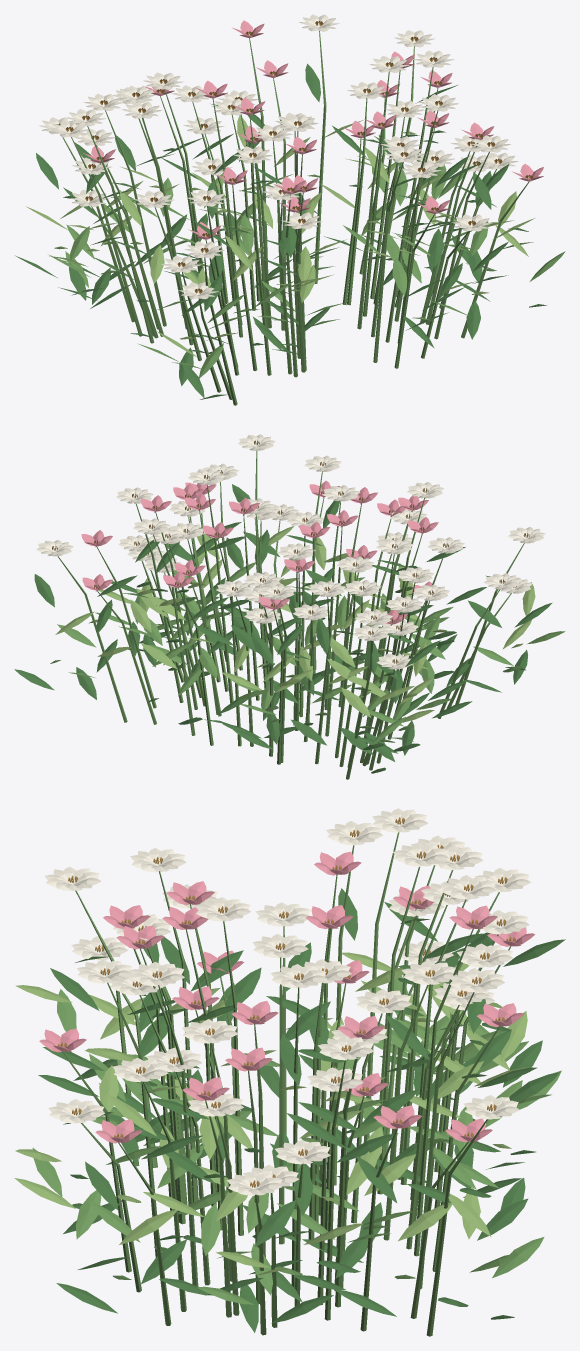
The model's file is wildflower-patch.glb.
3 views of the same model, one above another, from view 1: azimuth 30°, elevation 25°; view 2: azimuth 150°, elevation 25°; view 3: azimuth 270°, elevation 25° (orthographic). The views are drawn at different scales.
Visible parts, largest first — view 1: wildflower-patch; view 2: wildflower-patch; view 3: wildflower-patch.
Boxes of the visible parts, left/top/right/bottom form: wildflower-patch: left=15, top=14, right=565, bottom=405; wildflower-patch: left=14, top=434, right=565, bottom=779; wildflower-patch: left=14, top=808, right=565, bottom=1336.
Bounding box in the file's own units: 1 × 0.55 × 0.8.
